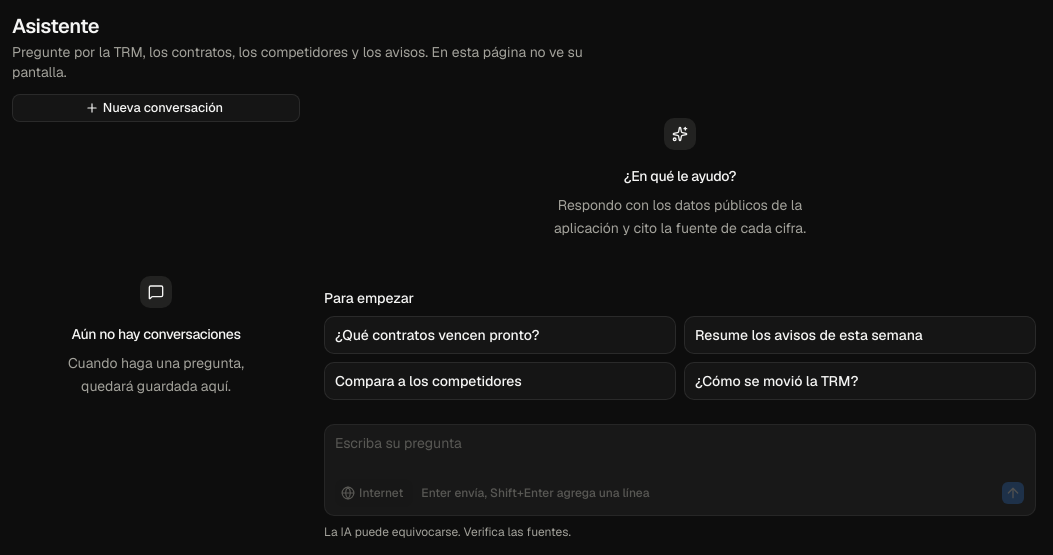
Test case: AssistantPage › sends a suggestion in page mode without page context and streams the answer with a source link
This screenshot has width=1053, height=555.
Click the button "¿Cómo se movió la TRM?": (860, 380) [684,362,1036,400]
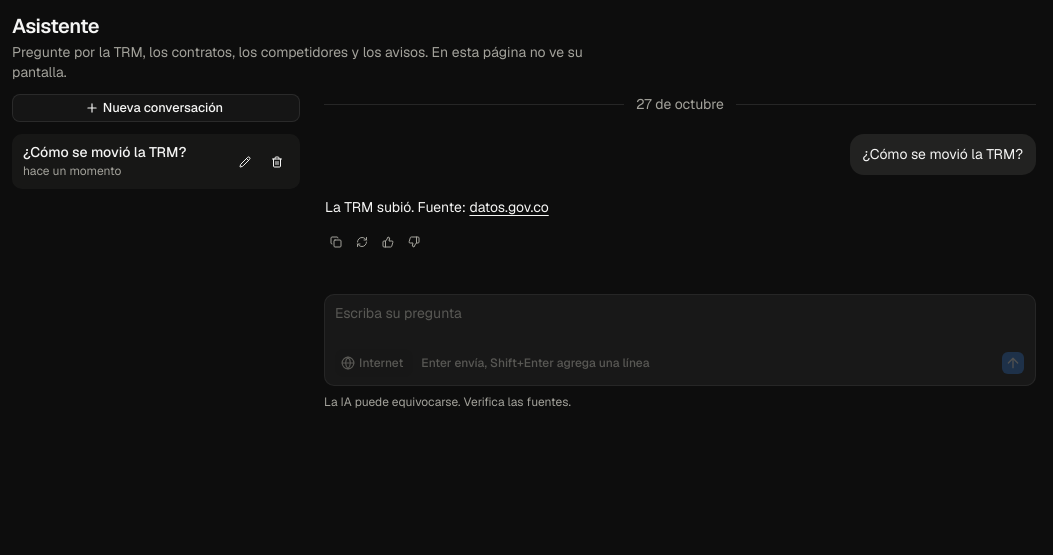
expect the button named "Copiar respuesta" is shown: met, box [324,230,348,254]
